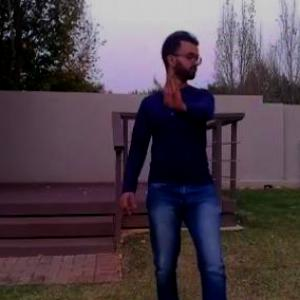takeoff-hand: (151, 66, 187, 113)
